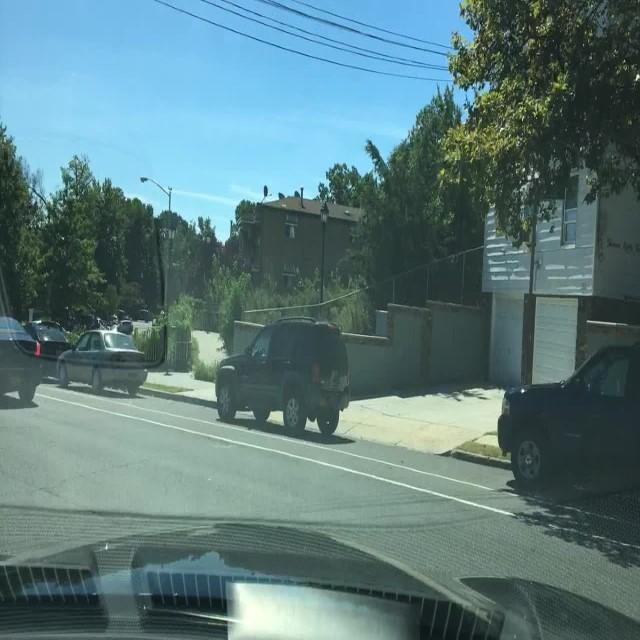normal: (207, 312, 356, 445), (54, 329, 149, 397), (29, 322, 75, 356)
